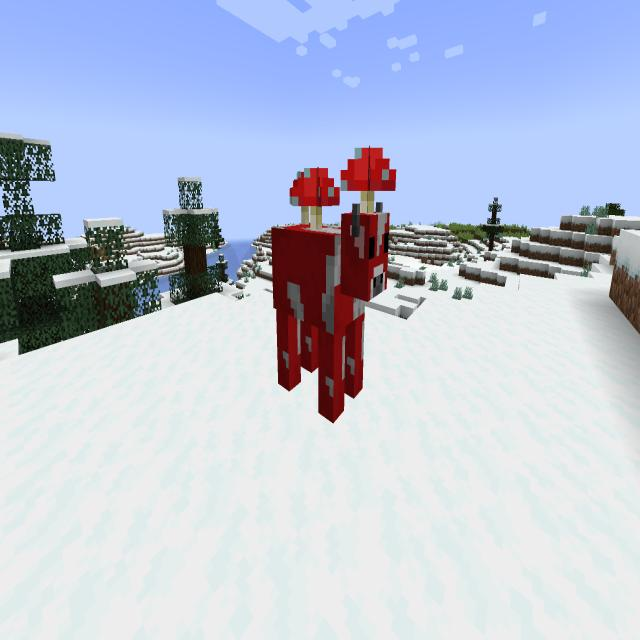Mooshroom: (256, 136, 407, 436)
